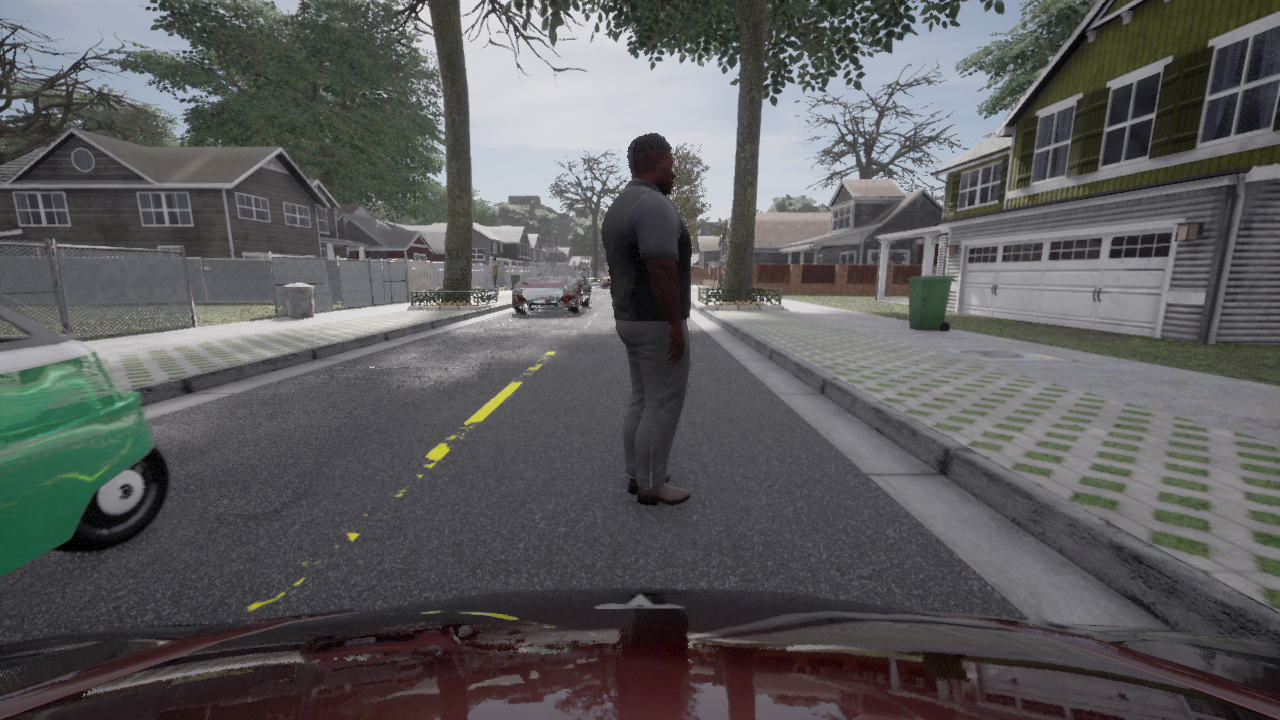cyclist: (0, 588, 1279, 719), (513, 261, 590, 313), (601, 271, 610, 287), (610, 279, 612, 294)
pedestrian: (600, 132, 690, 505), (492, 256, 498, 295)
